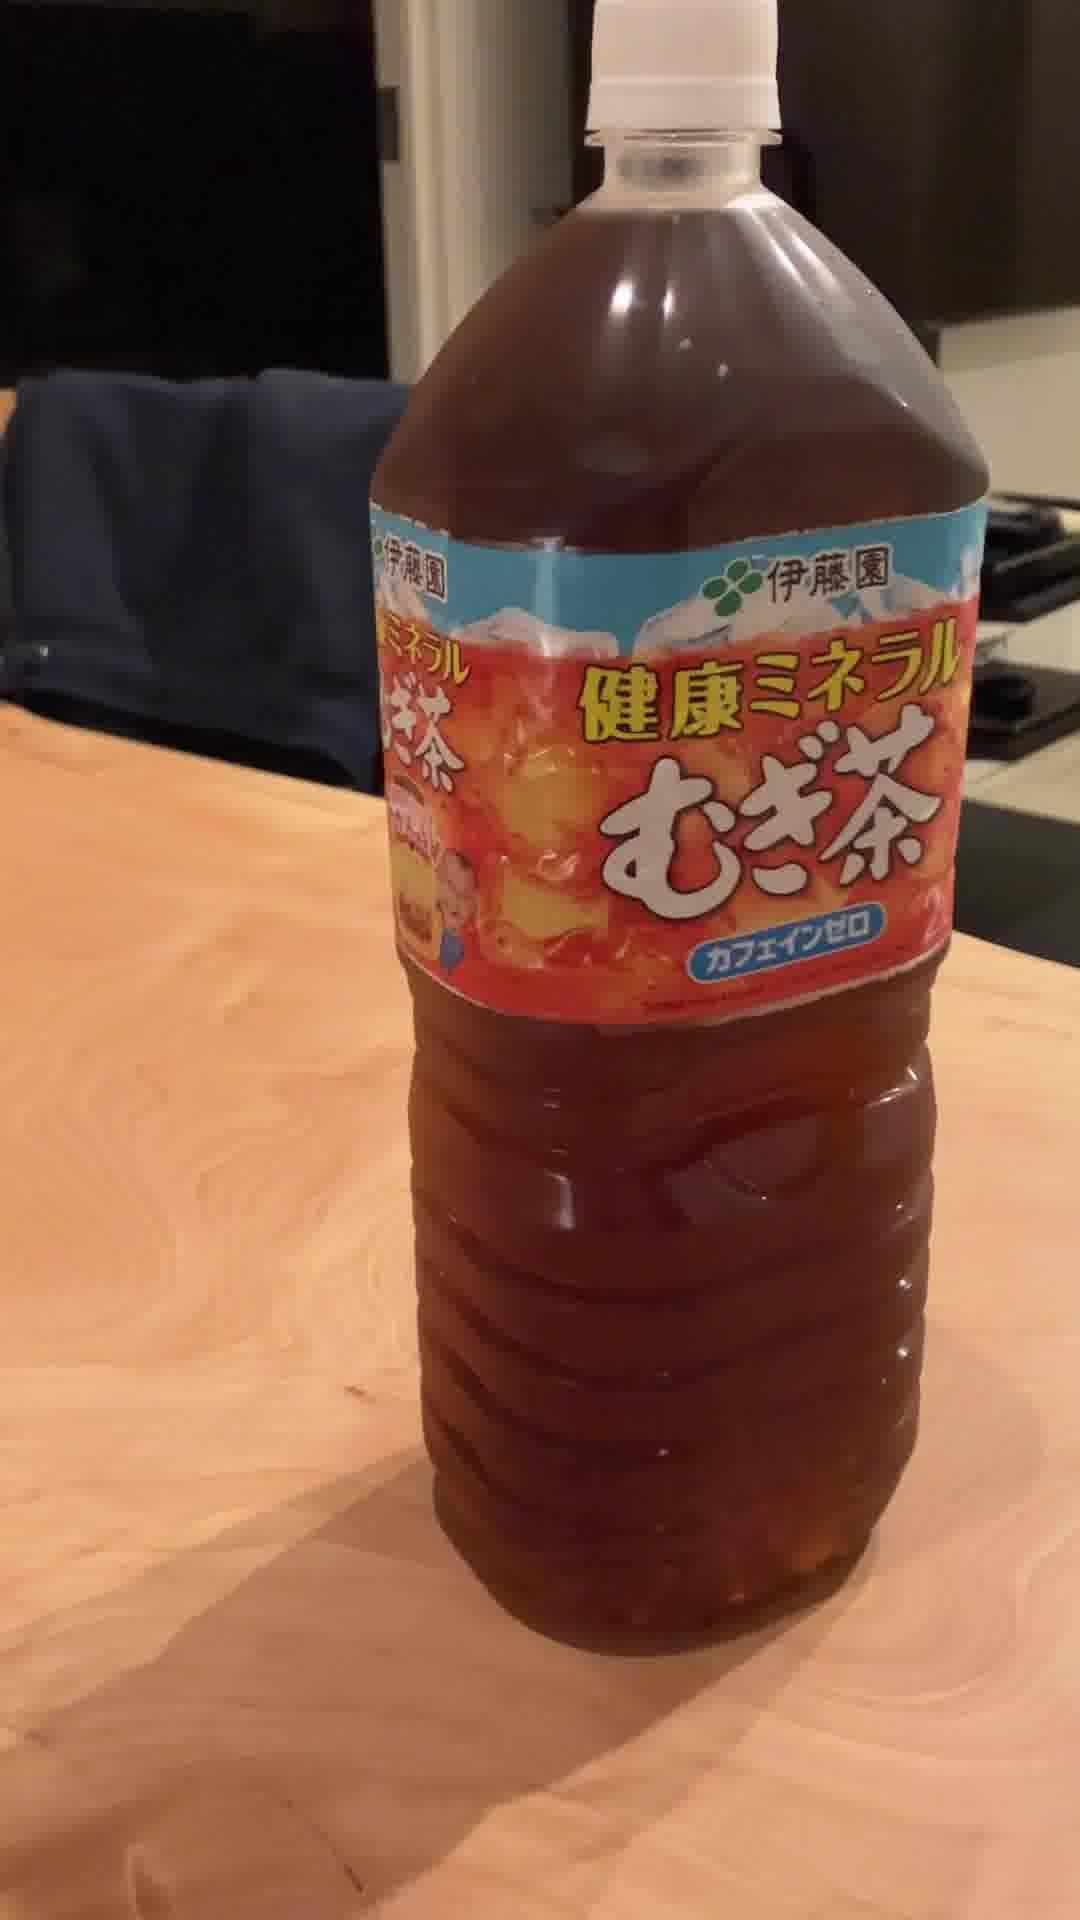BIODEGRADABLE: (368, 0, 994, 1650)
